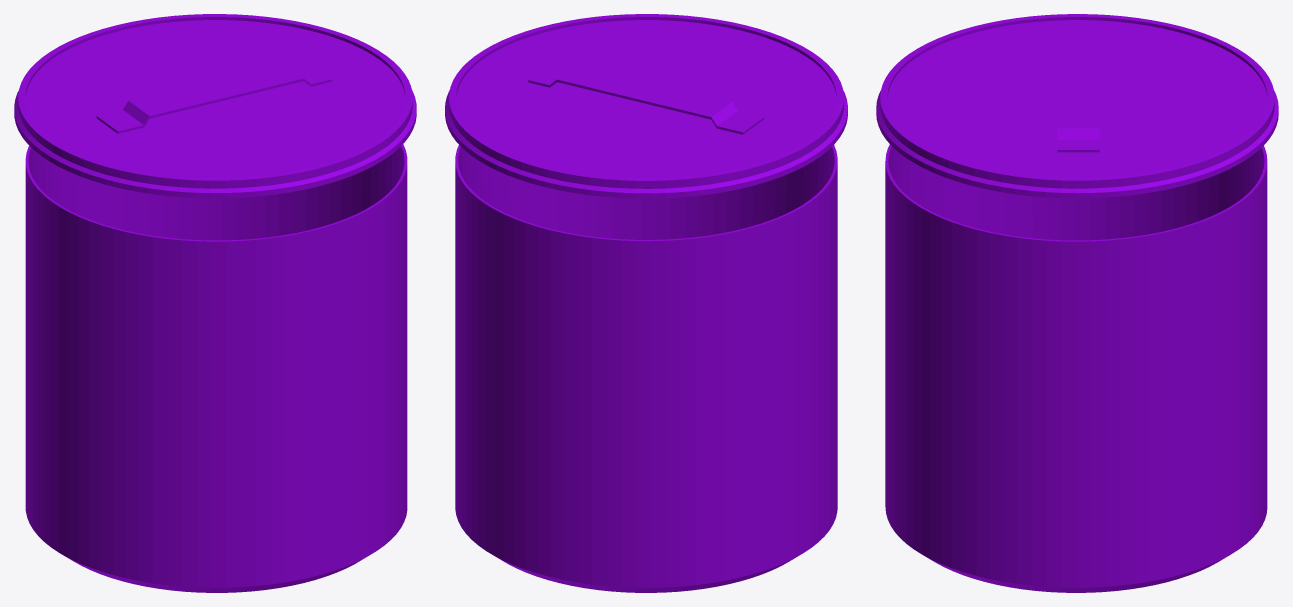
The model's file is small-pot-yatai.fbx.
3 renders of one model, left to right at view 1: azimuth 30°, elevation 25°; view 2: azimuth 150°, elevation 25°; view 3: azimuth 270°, elevation 25°, orthographic.
Parts seen in each view (by area): view 1: Cylinder.003, Cylinder.004; view 2: Cylinder.003, Cylinder.004; view 3: Cylinder.003, Cylinder.004.
Part boxes in pixels (x1,y1,x2,y2): Cylinder.003: [25, 144, 407, 592]; Cylinder.004: [14, 14, 416, 198]; Cylinder.003: [455, 145, 837, 592]; Cylinder.004: [445, 14, 847, 198]; Cylinder.003: [885, 144, 1267, 592]; Cylinder.004: [876, 14, 1278, 198].
Size of the model in its own units: 115 by 135 by 115.
